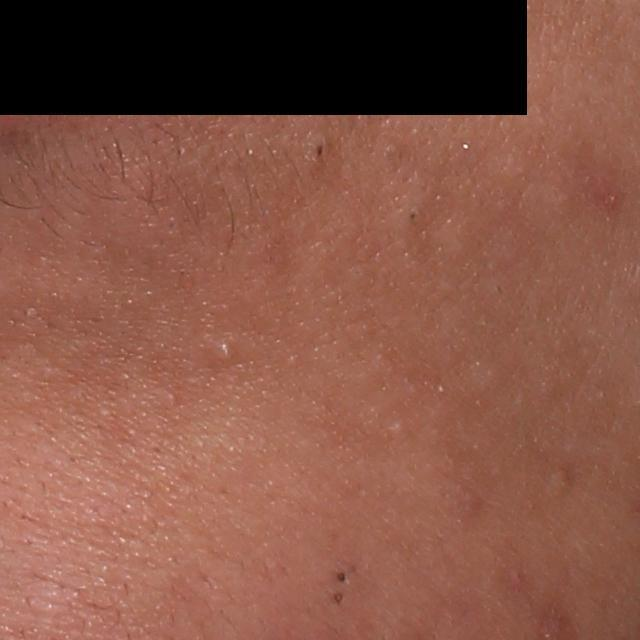comedo: (550, 464, 576, 496), (308, 137, 327, 165), (405, 203, 423, 228), (332, 569, 347, 586), (330, 594, 343, 608)
